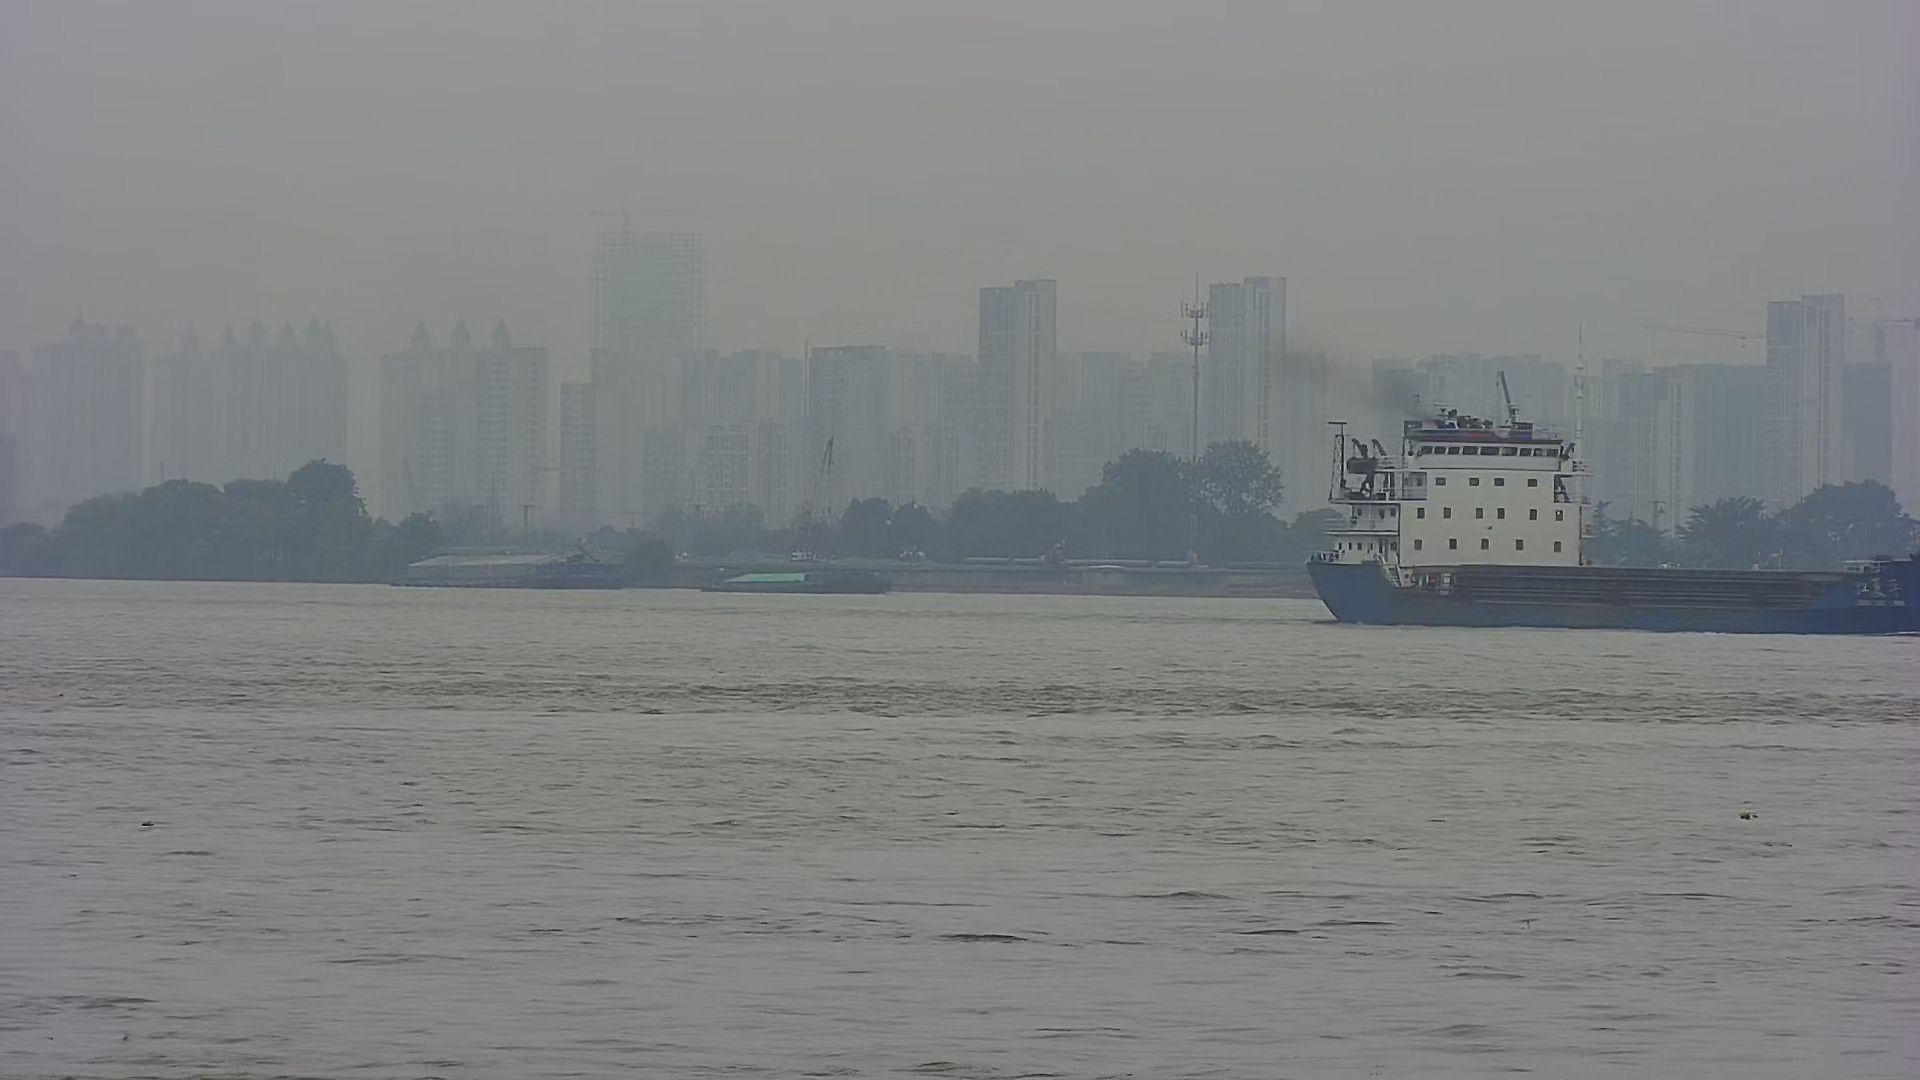boat: (688, 559, 905, 603)
ship: (1305, 421, 1920, 649)
